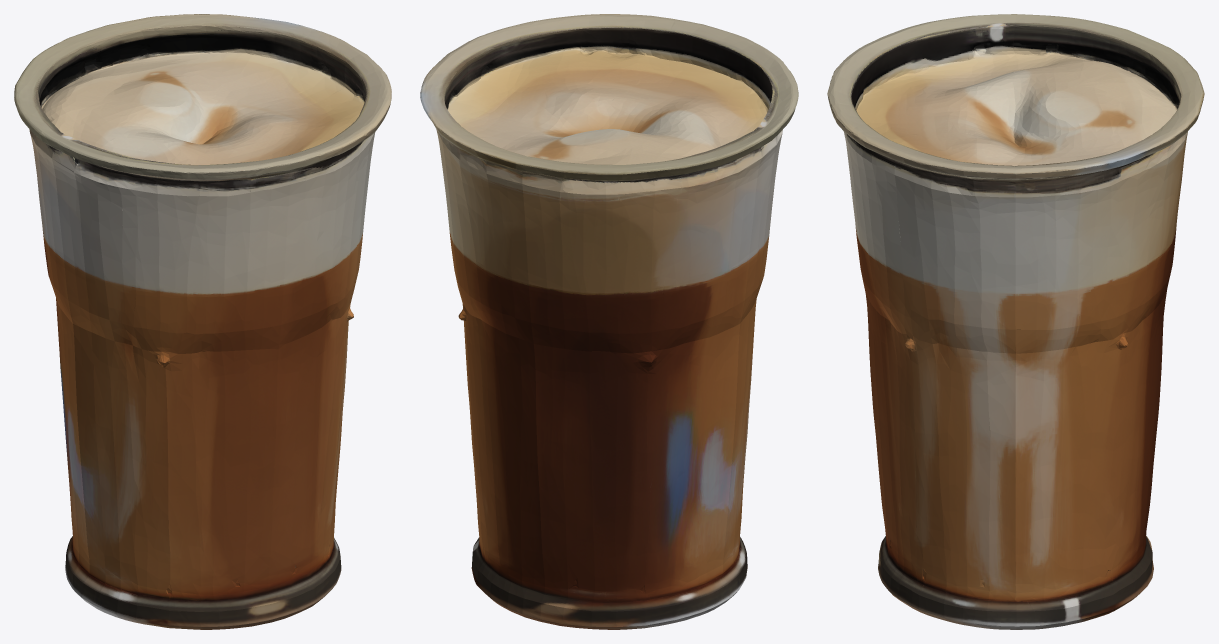
The model's file is beer.glb.
3 views of the same model, side by side, from view 1: azimuth 30°, elevation 25°; view 2: azimuth 150°, elevation 25°; view 3: azimuth 270°, elevation 25° (orthographic).
Parts seen in each view (by area): view 1: world; view 2: world; view 3: world.
Boxes of the visible parts, x1,y1,x2,y2 form: world: [14, 14, 391, 629]; world: [420, 14, 798, 629]; world: [827, 14, 1204, 629].
Bounding box in the file's own units: 0.699 × 0.9891 × 0.6998.
1 material, 1 textured.
